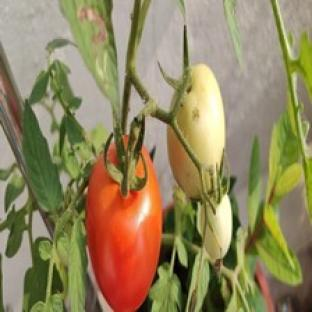Tomato: (87, 148, 161, 311), (177, 65, 225, 169), (201, 195, 232, 261)
